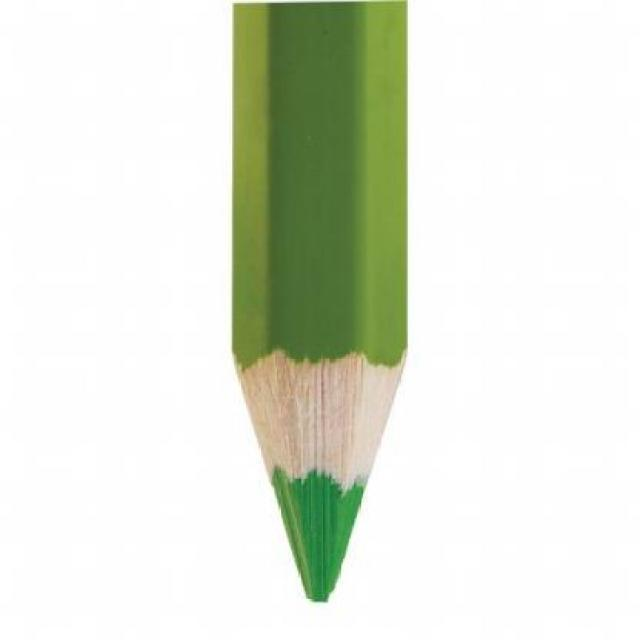pencil: (204, 268, 440, 624)
